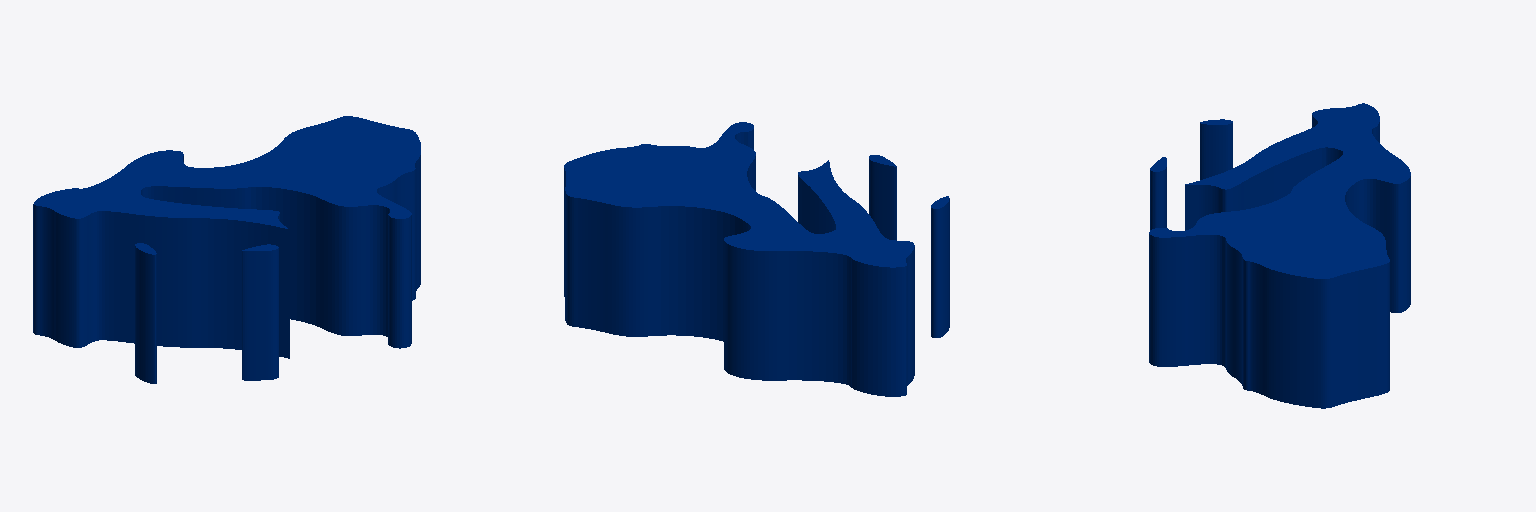
Rendered from Europe_05.obj.
The picture shows the model from 3 angles: view 1: azimuth 30°, elevation 25°; view 2: azimuth 150°, elevation 25°; view 3: azimuth 270°, elevation 25°; orthographic projection.
Visible parts, largest first — view 1: Europe_05_path4242; view 2: Europe_05_path4242; view 3: Europe_05_path4242.
Boxes of the visible parts, <box> form: Europe_05_path4242: <box>33,116,420,383</box>; Europe_05_path4242: <box>564,122,949,396</box>; Europe_05_path4242: <box>1149,103,1410,408</box>.
Size of the model in its own units: 0.2915 by 0.1 by 0.1832.